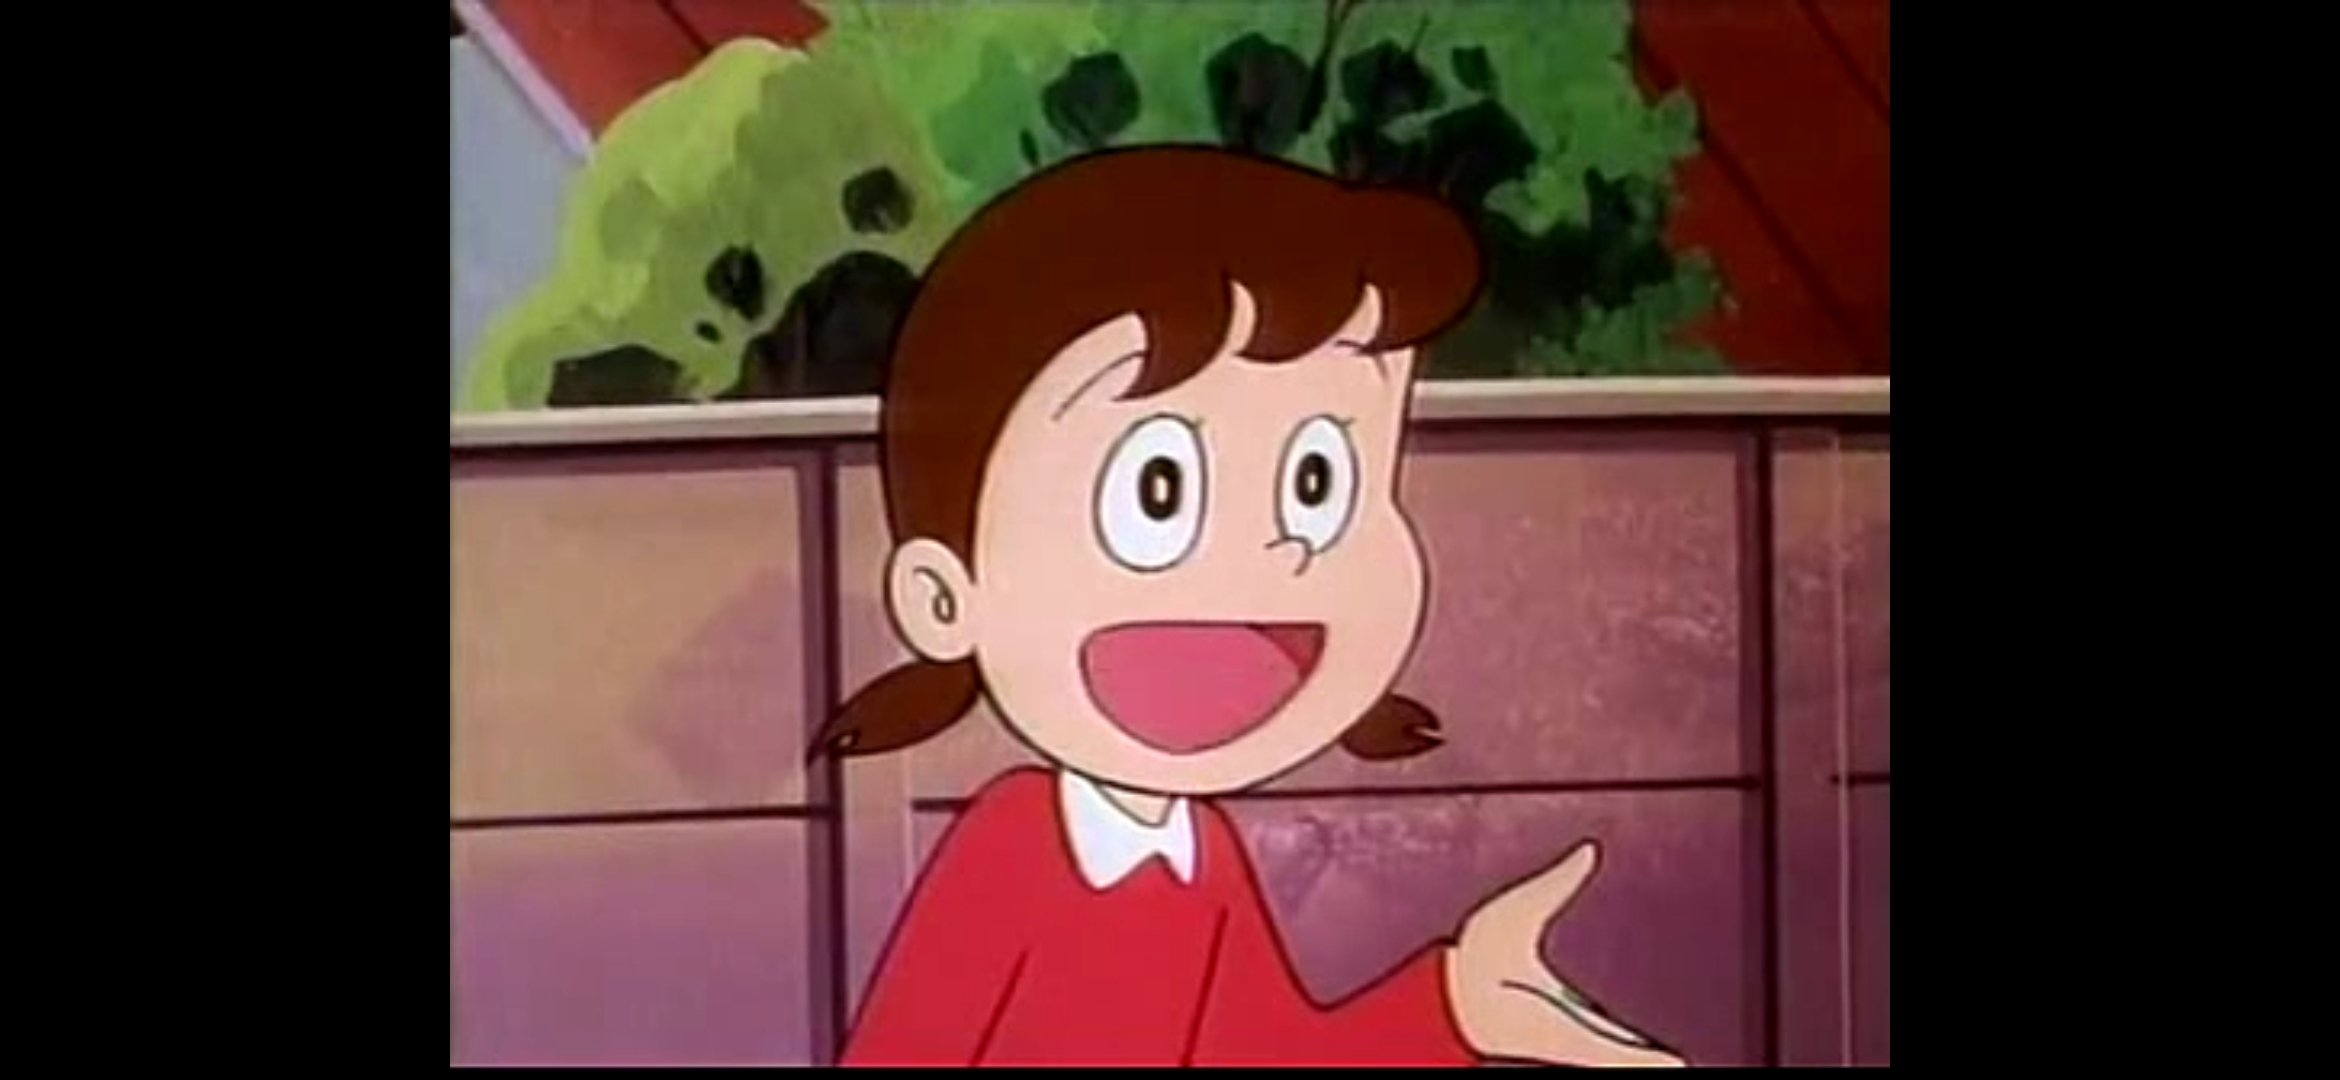Shizuka: (877, 142, 1477, 794)
